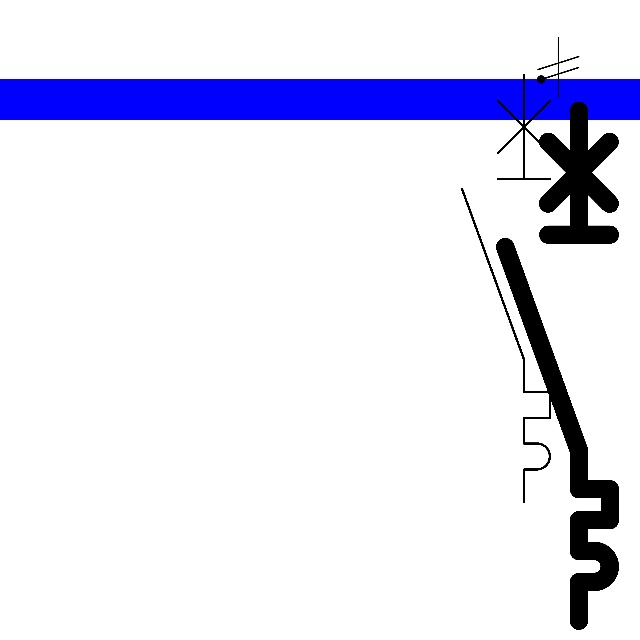interruptor_termomagnetico: (492, 97, 623, 633), (451, 64, 561, 513)
